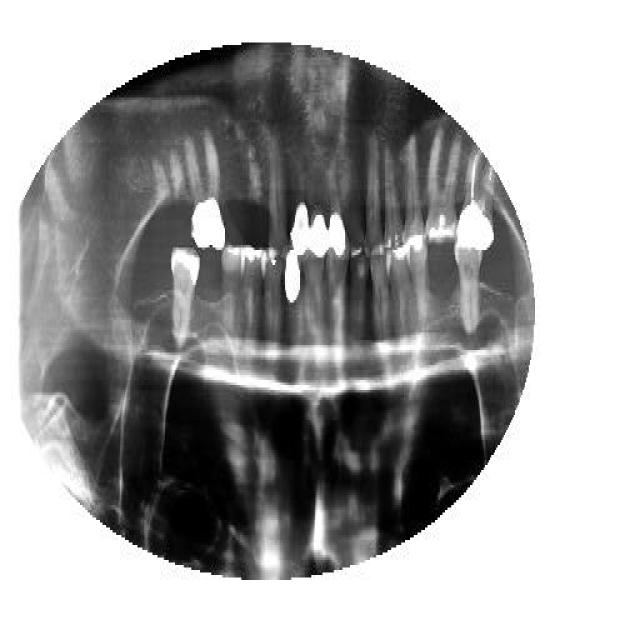Cavity: (152, 152, 188, 228), (244, 148, 264, 220)
Fillings: (185, 135, 229, 253), (425, 125, 459, 245), (170, 248, 201, 348), (242, 248, 266, 348), (406, 232, 430, 330), (308, 165, 328, 255), (328, 163, 347, 255), (289, 173, 310, 255), (285, 252, 301, 342)
Implant: (457, 145, 495, 253)
